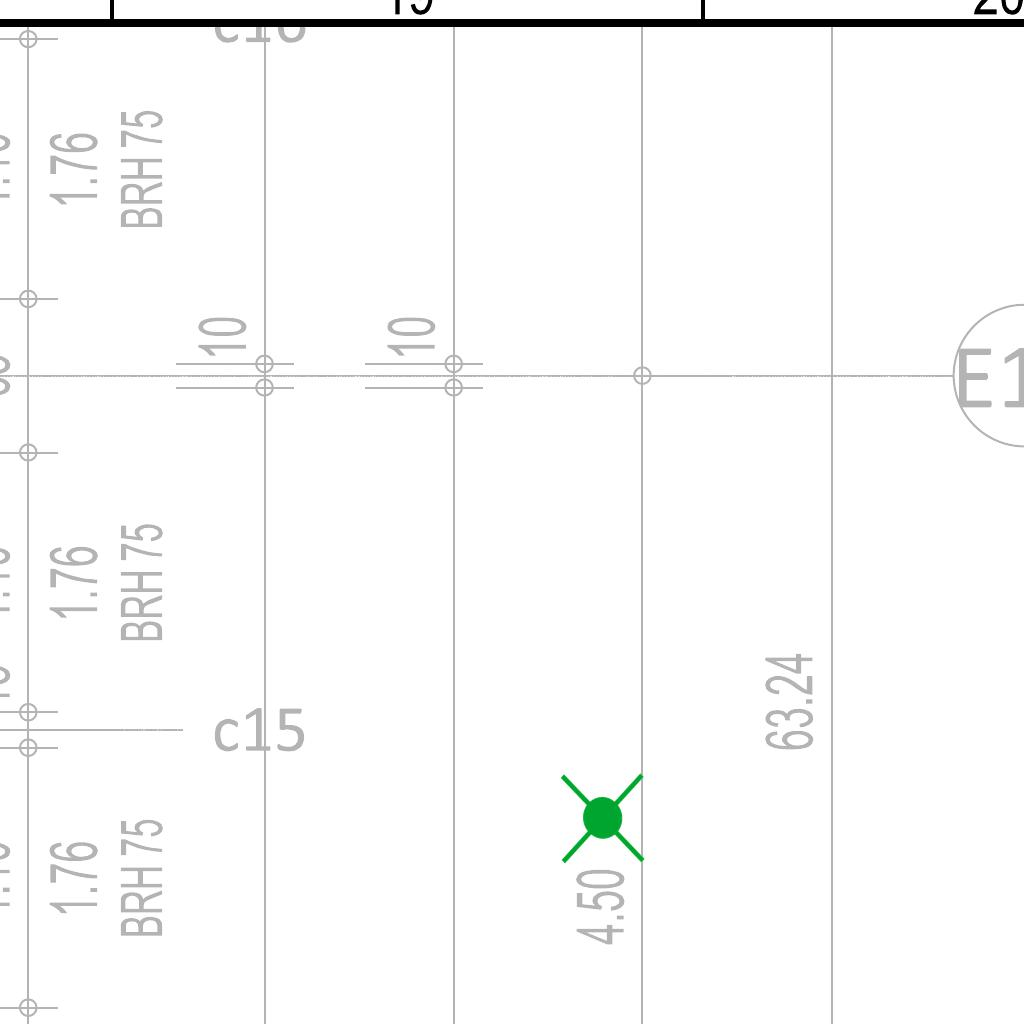Notlichtbaustein_in_Allgemeinbeleuchtug_engebaut_Einbau_(1UG_und_2UG_Aufbauvaria: (550, 768, 653, 868)
